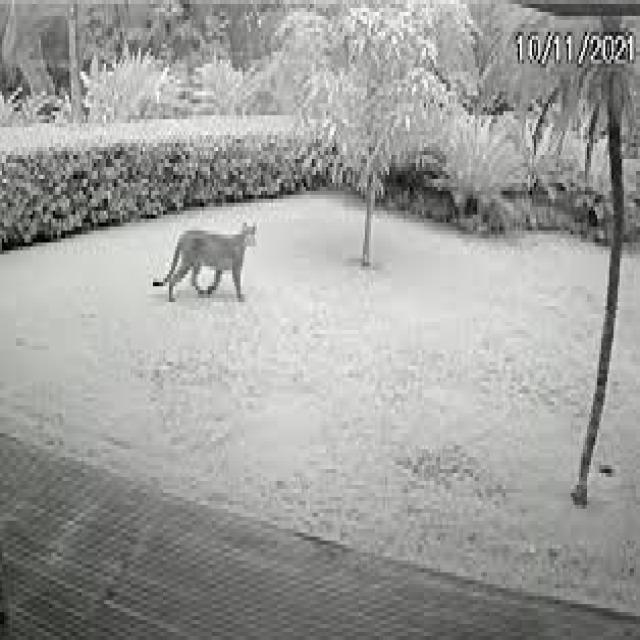Jaguar: (151, 219, 263, 306)
